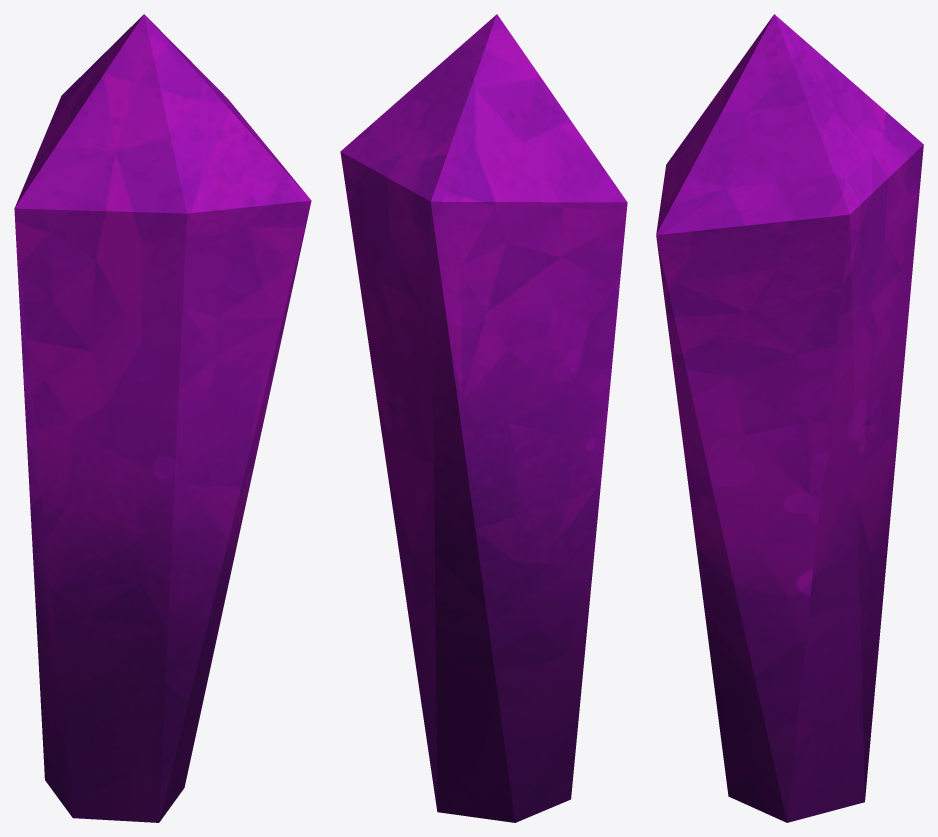
Rendered from P_CRYSTAL FRAGMENT 7.fbx.
3 renders of one model, left to right at view 1: azimuth 30°, elevation 25°; view 2: azimuth 150°, elevation 25°; view 3: azimuth 270°, elevation 25°, orthographic.
Parts seen in each view (by area): view 1: Crystal Fragment_7; view 2: Crystal Fragment_7; view 3: Crystal Fragment_7.
Boxes of the visible parts, left/top/right/bottom form: Crystal Fragment_7: left=14, top=14, right=311, bottom=822; Crystal Fragment_7: left=340, top=14, right=627, bottom=822; Crystal Fragment_7: left=656, top=14, right=923, bottom=822.
Bounding box in the file's own units: 46.96 × 140 × 43.2.
